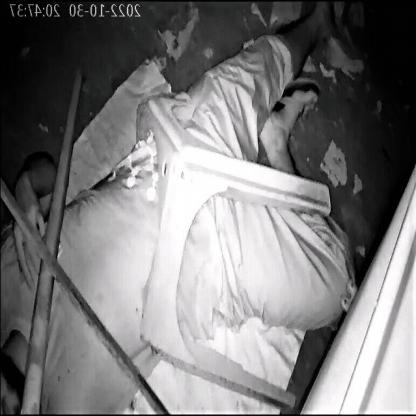hand: (0, 160, 61, 278)
leg: (226, 0, 348, 87), (259, 74, 323, 177)
